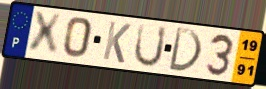0: (61, 16, 94, 61)
3: (203, 32, 235, 78)
D: (166, 26, 203, 74)
K: (101, 20, 133, 66)
U: (132, 23, 169, 69)
X: (27, 10, 64, 57)
